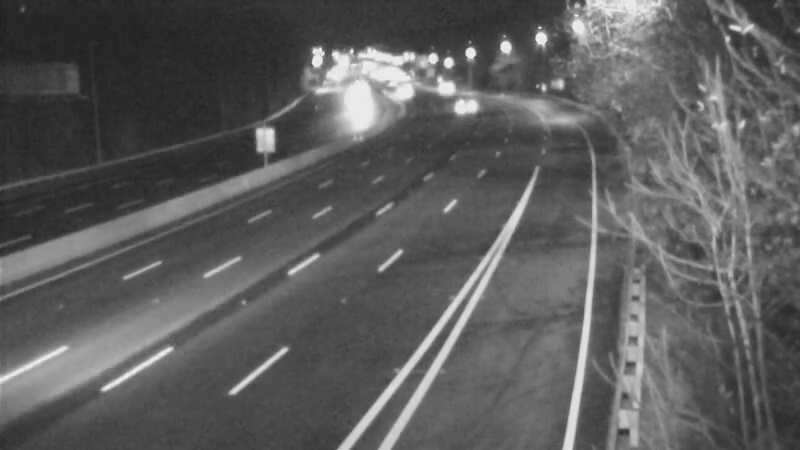vehicle: (420, 63, 470, 113), (378, 68, 428, 118), (444, 84, 494, 134)
